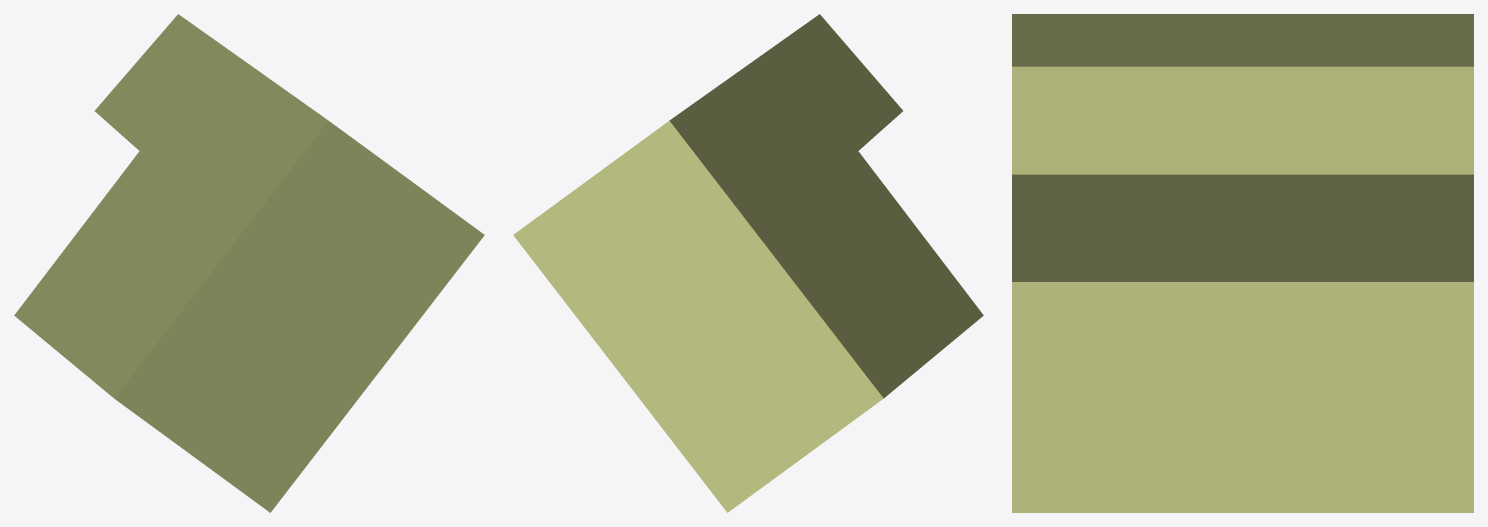
The picture shows the model from 3 angles, left to right: view 1: azimuth 30°, elevation 25°; view 2: azimuth 150°, elevation 25°; view 3: azimuth 270°, elevation 25°; orthographic projection. The views are drawn at different scales.
Parts seen in each view (by area): view 1: 0_1_1_3_3_1_0_3_0_2_2; view 2: 0_1_1_3_3_1_0_3_0_2_2; view 3: 0_1_1_3_3_1_0_3_0_2_2.
Boxes of the visible parts, <box> form: 0_1_1_3_3_1_0_3_0_2_2: <box>14,14,484,512</box>; 0_1_1_3_3_1_0_3_0_2_2: <box>513,14,983,512</box>; 0_1_1_3_3_1_0_3_0_2_2: <box>1012,14,1473,512</box>.
Bounding box in the file's own units: 10.45 × 11.72 × 9.
